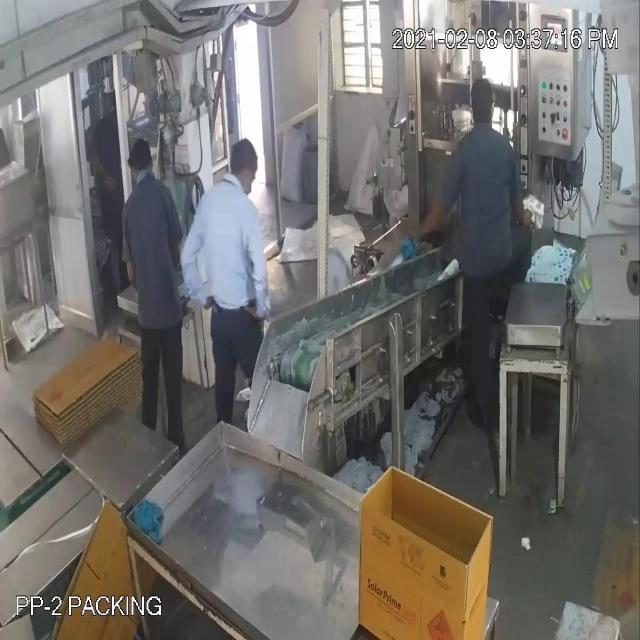No_Gloves: (30, 54, 421, 277)
